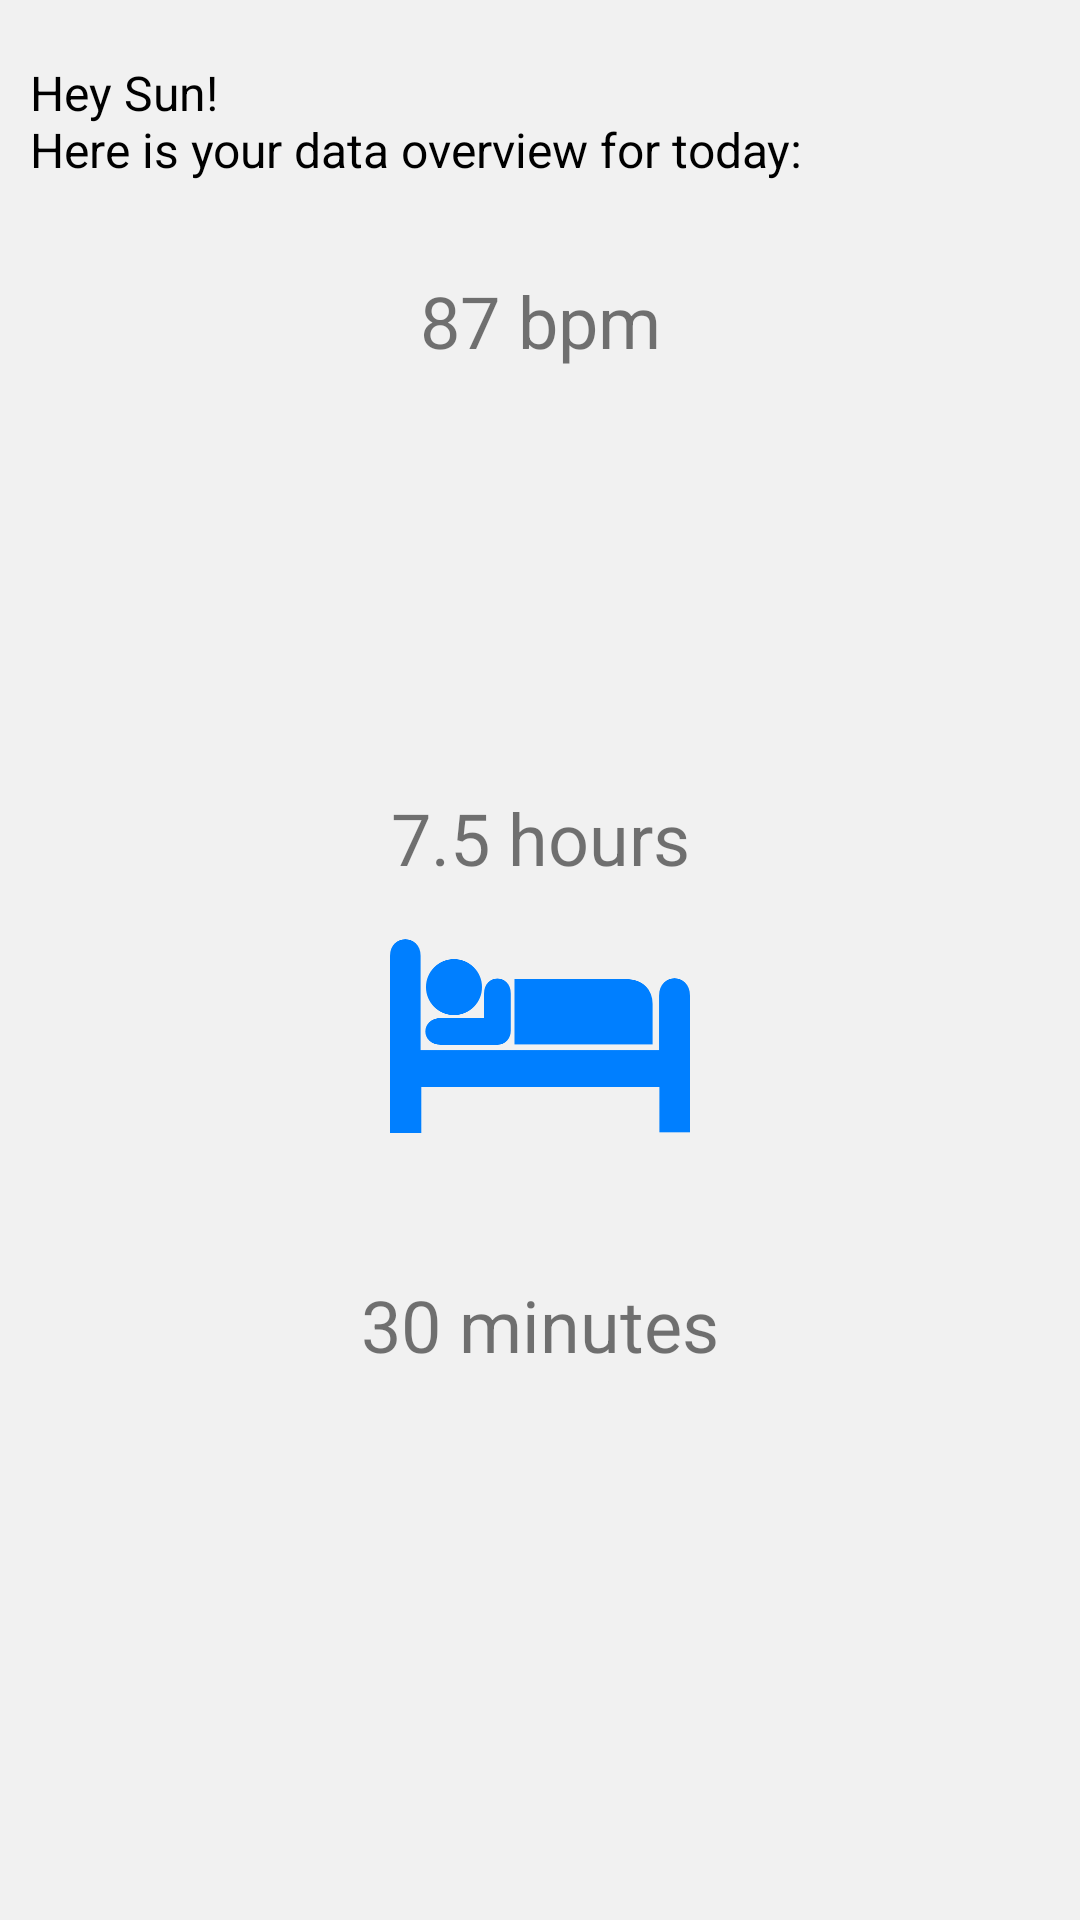

Screen size 1080 x 1920. Icon name, then its box in pixels as {"x1": x1, "y1": y1, "x2": x2, "y2": y2}:
sleep: {"x1": 390, "y1": 939, "x2": 690, "y2": 1133}
